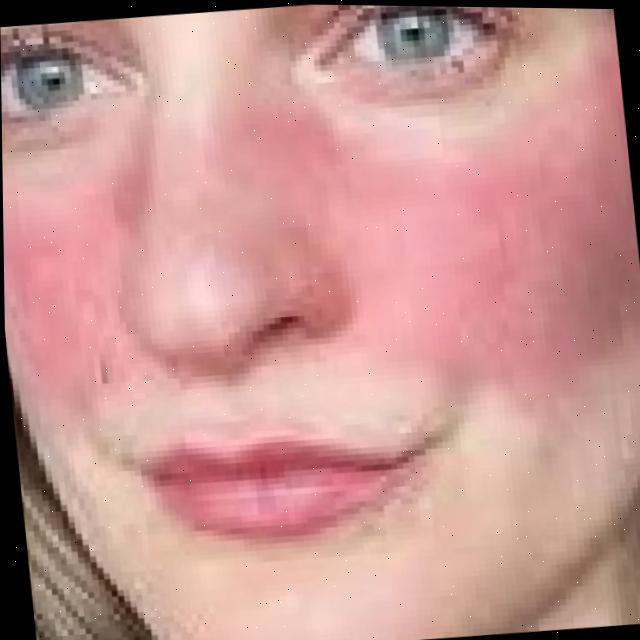Rosacea: (1, 101, 634, 414)
